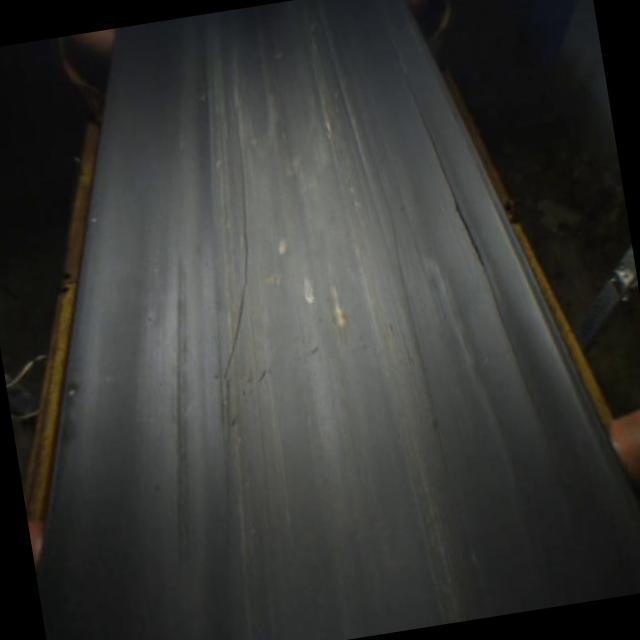Tear: (388, 46, 498, 290), (217, 142, 256, 383)
